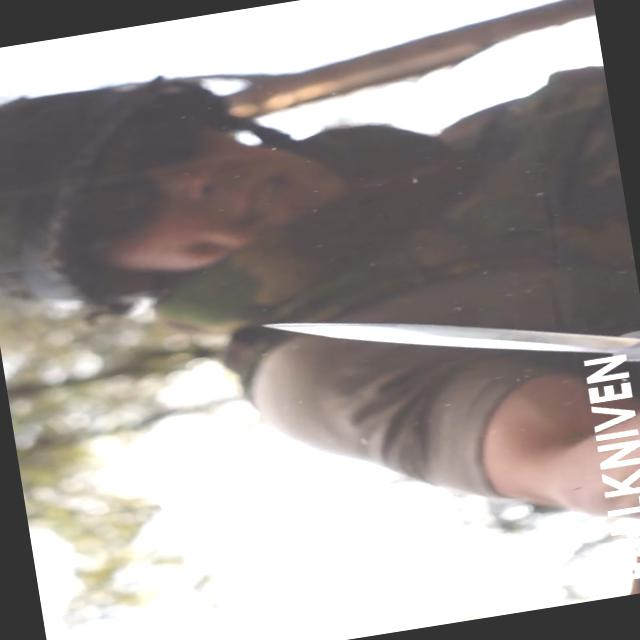knife: (239, 255, 639, 425)
